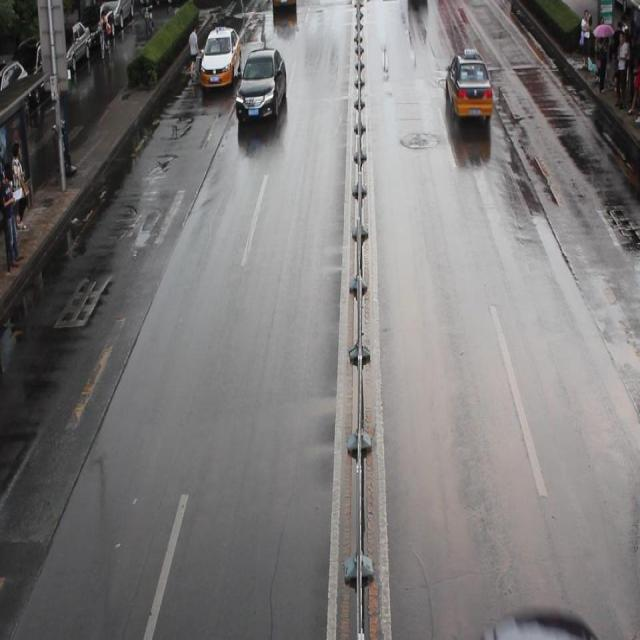car: (235, 48, 286, 124), (445, 48, 491, 119), (198, 26, 242, 85), (272, 1, 296, 14)
truck: (407, 1, 428, 6)
